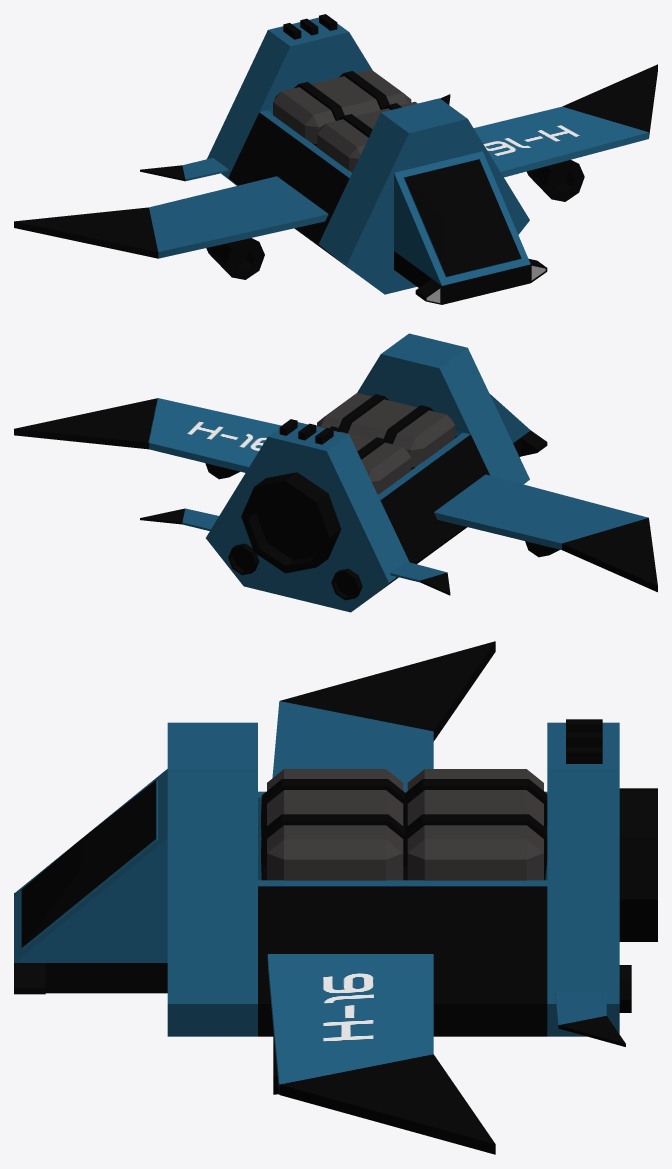
Rendered from enemy_cargo_final.fbx.
3 renders of one model, top to bottom at view 1: azimuth 30°, elevation 25°; view 2: azimuth 150°, elevation 25°; view 3: azimuth 270°, elevation 25°, orthographic. The views are drawn at different scales.
Parts seen in each view (by area): view 1: pCube33, pCube7; view 2: pCube33, pCube7; view 3: pCube33, pCube7.
Part boxes in pixels (x1,y1,x2,y2): pCube33: (14,14,584,304); pCube7: (473,64,657,177); pCube33: (140,333,657,612); pCube7: (14,398,281,472); pCube33: (14,641,657,1094); pCube7: (267,954,495,1154).
Bounding box in the file's own units: 1562 × 377 × 845.
